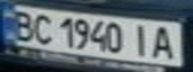0: (106, 20, 130, 54)
1: (54, 15, 75, 48)
4: (87, 18, 109, 52)
9: (69, 16, 90, 51)
A: (145, 22, 181, 61)
B: (6, 8, 39, 42)
C: (30, 11, 57, 45)
I: (127, 21, 157, 57)
